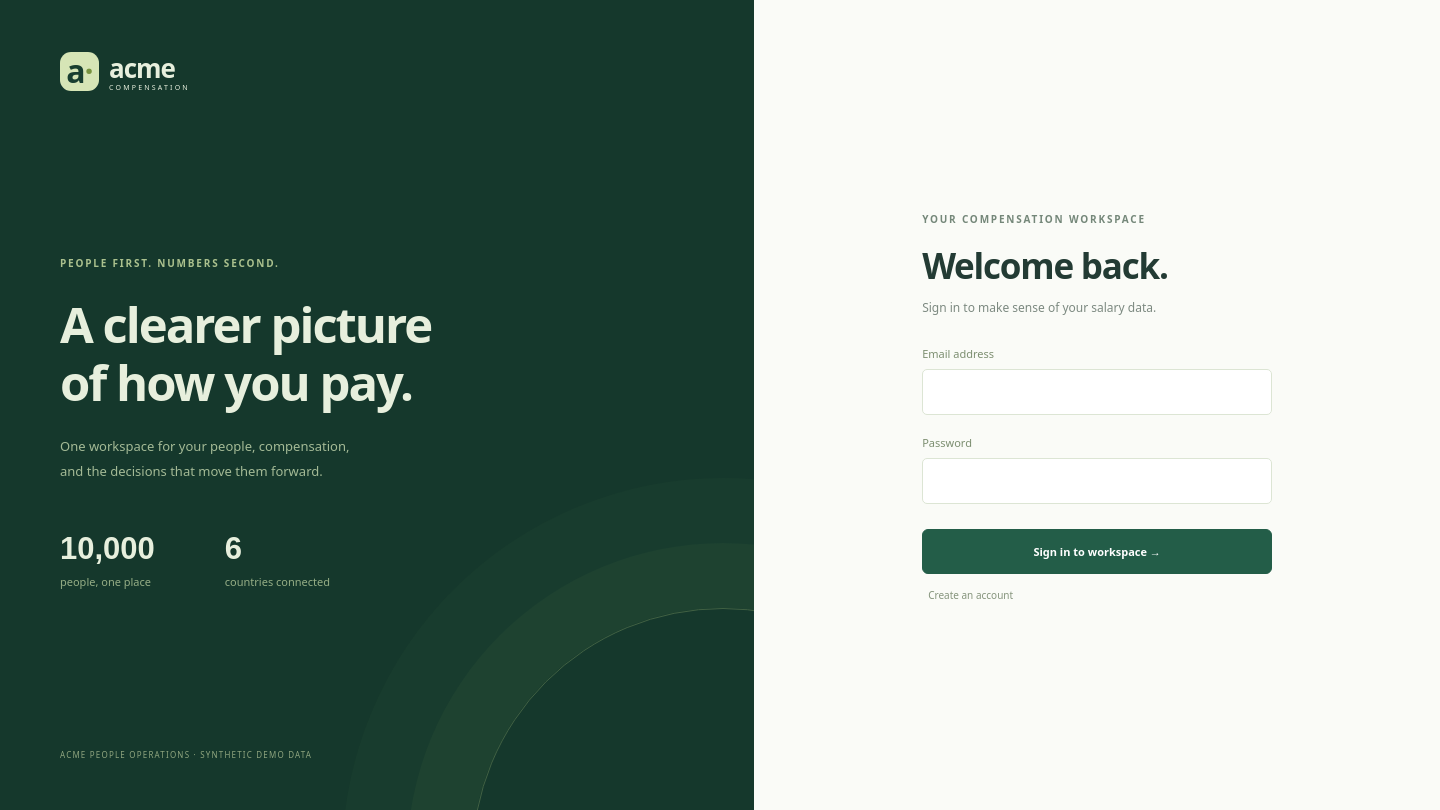
A non-JSON hosting error shows a readable retry message
The image size is (1440, 810).
Expected: the password field labelled "Password" is empty, [922,458,1272,504]
Step 1. Type "user@example.com" into the field labelled "Email address" → (1097, 392), box [922,368,1272,414]
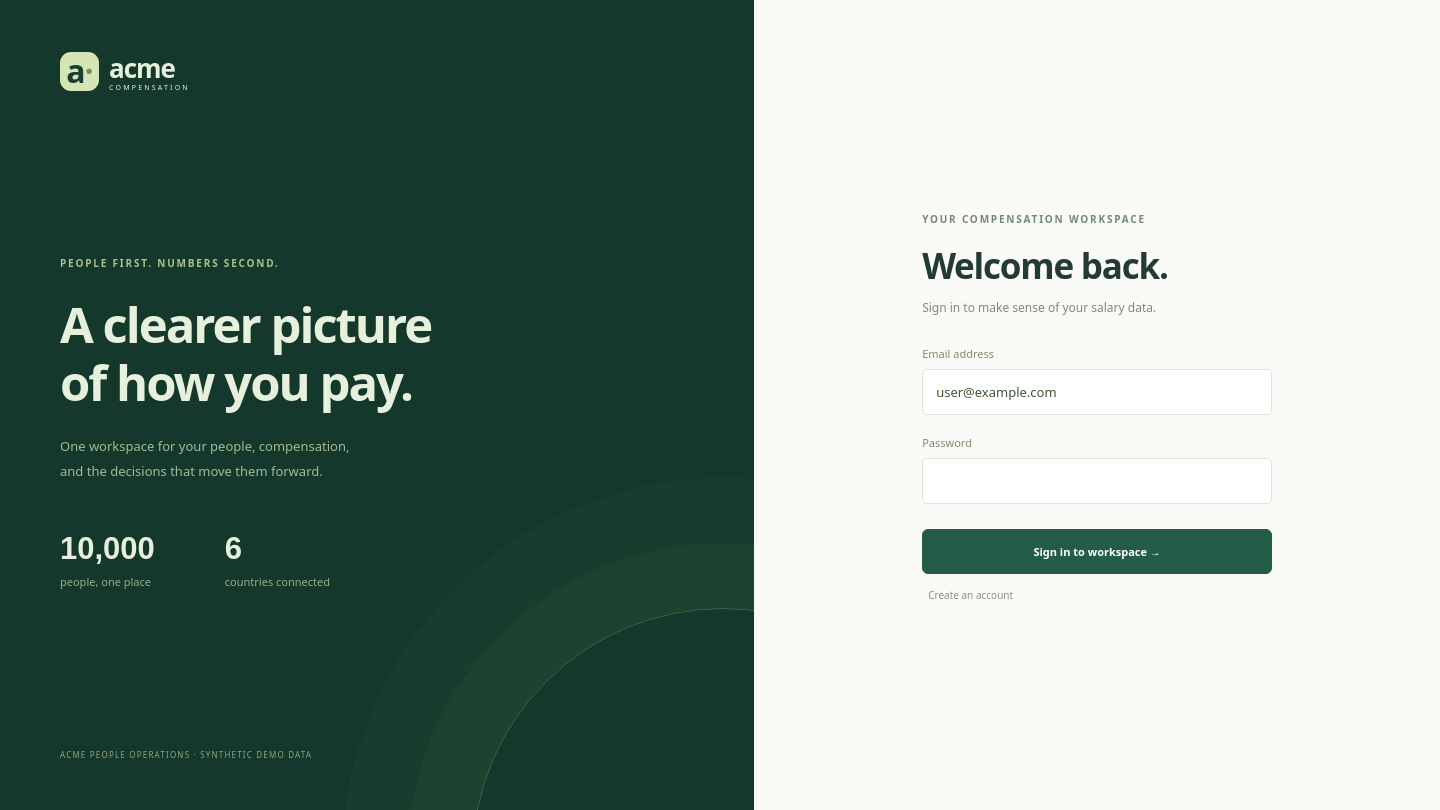
Step 2. Type "LongPassword42!" into the password field labelled "Password" → (1097, 480), box [922,458,1272,504]
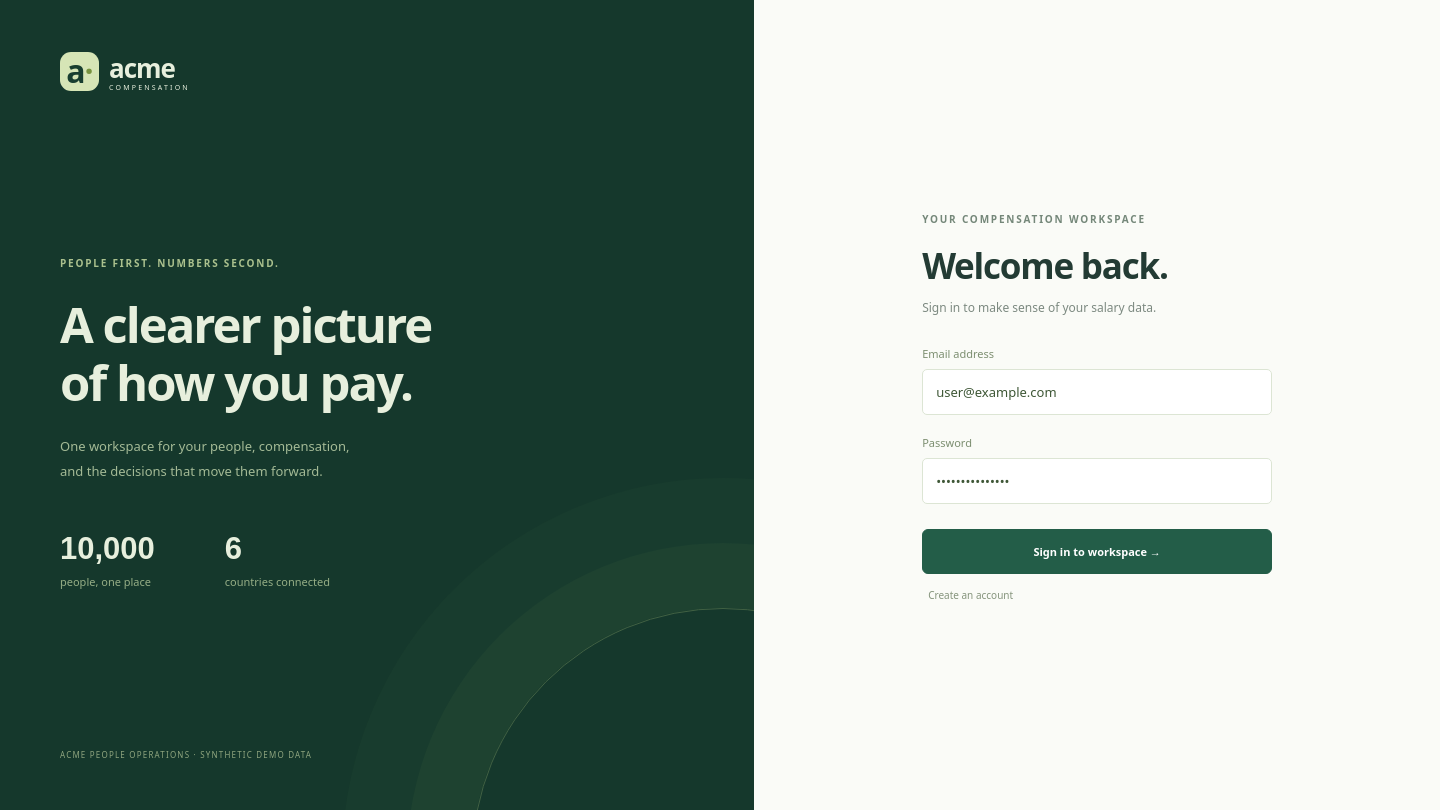
Step 3. Click the button "Sign in to workspace →" → (1097, 551), box [922,528,1272,574]
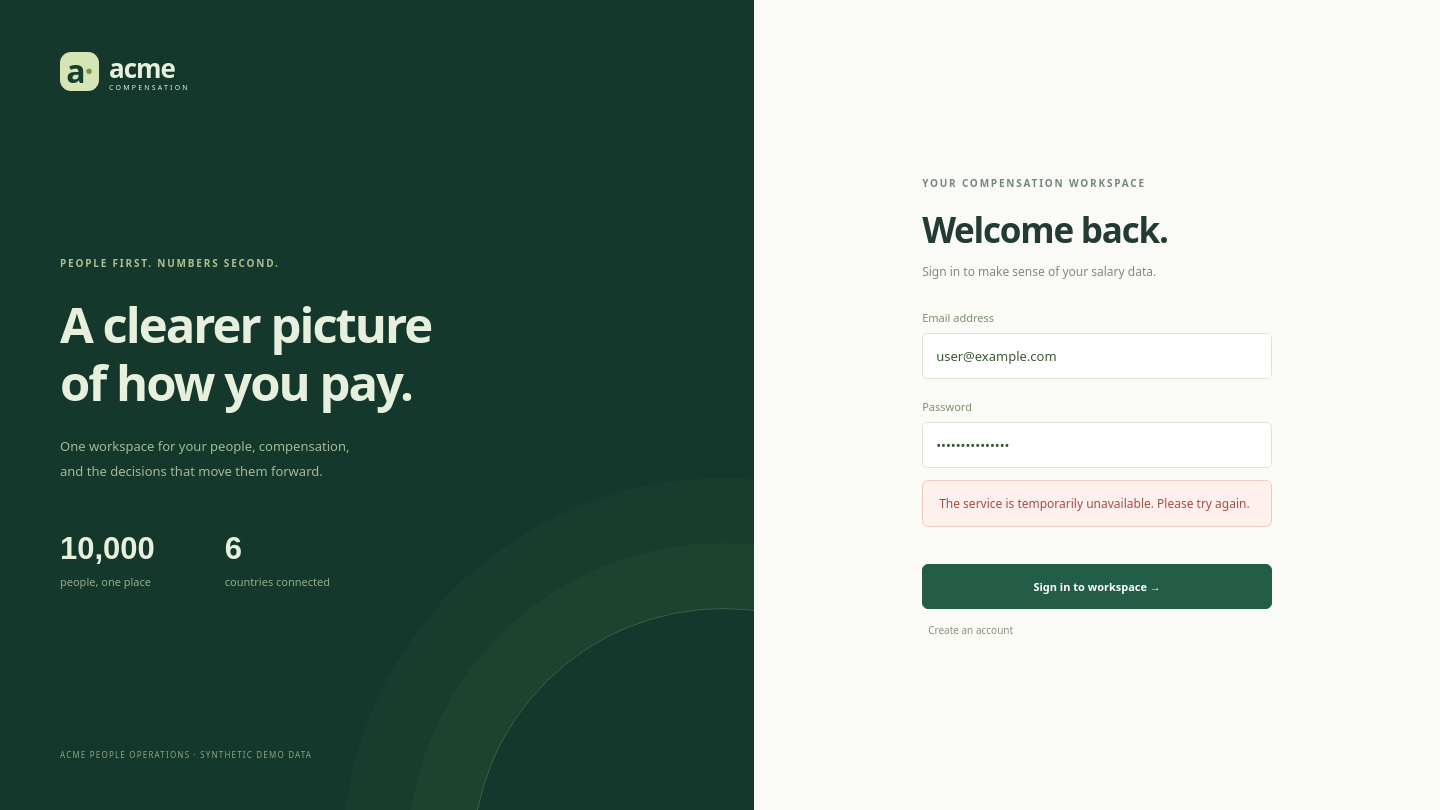
Result: the message reads "The service is temporarily unavailable. Please try again." at [939,495,1250,512]
